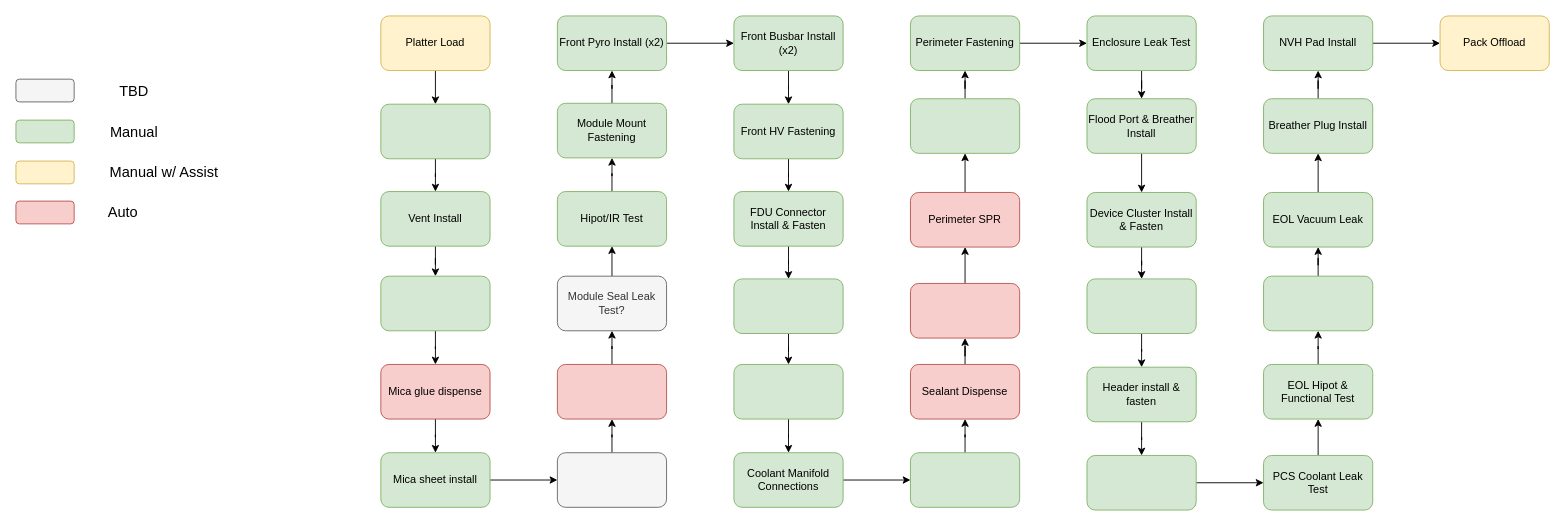
The diagram is 1565 pixels wide and 526 high, and some of its shapes have lost their labels. Each missing label, with the centre of its shape:
"Ancillary Cover Install & Fasten" goes at [1318,303].
"Arrestor Install" goes at [435,131].
"Coolant Leak Test" goes at [965,479].
"Coolant Passthrough Install & Fasten" goes at [788,391].
"Flood Port Install" goes at [435,303].
"Heat Pump Connector Install & Fasten" goes at [788,306].
"Module install" goes at [611,391].
"Module seal install?" goes at [611,479].
"PCS Coolant Install" goes at [1141,482].
"PCS install & fasten" goes at [1141,306].
"Top Cover Fastening" goes at [965,125].
"Top Cover Install" goes at [965,310].
